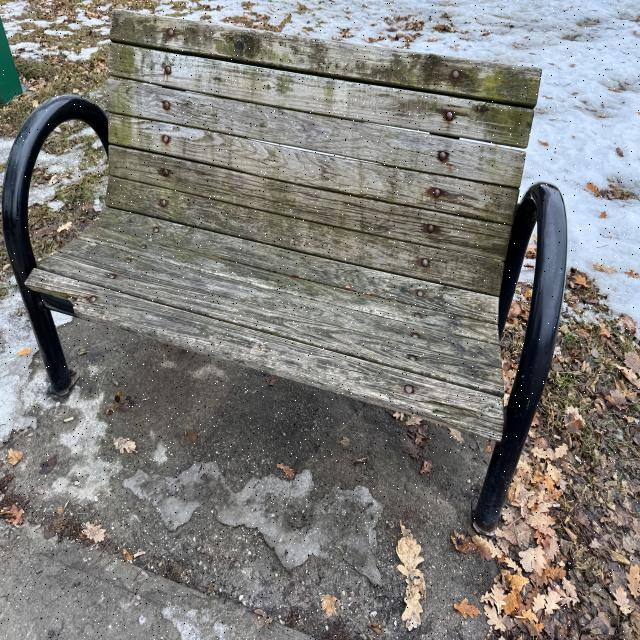Bench: (8, 67, 569, 489)
